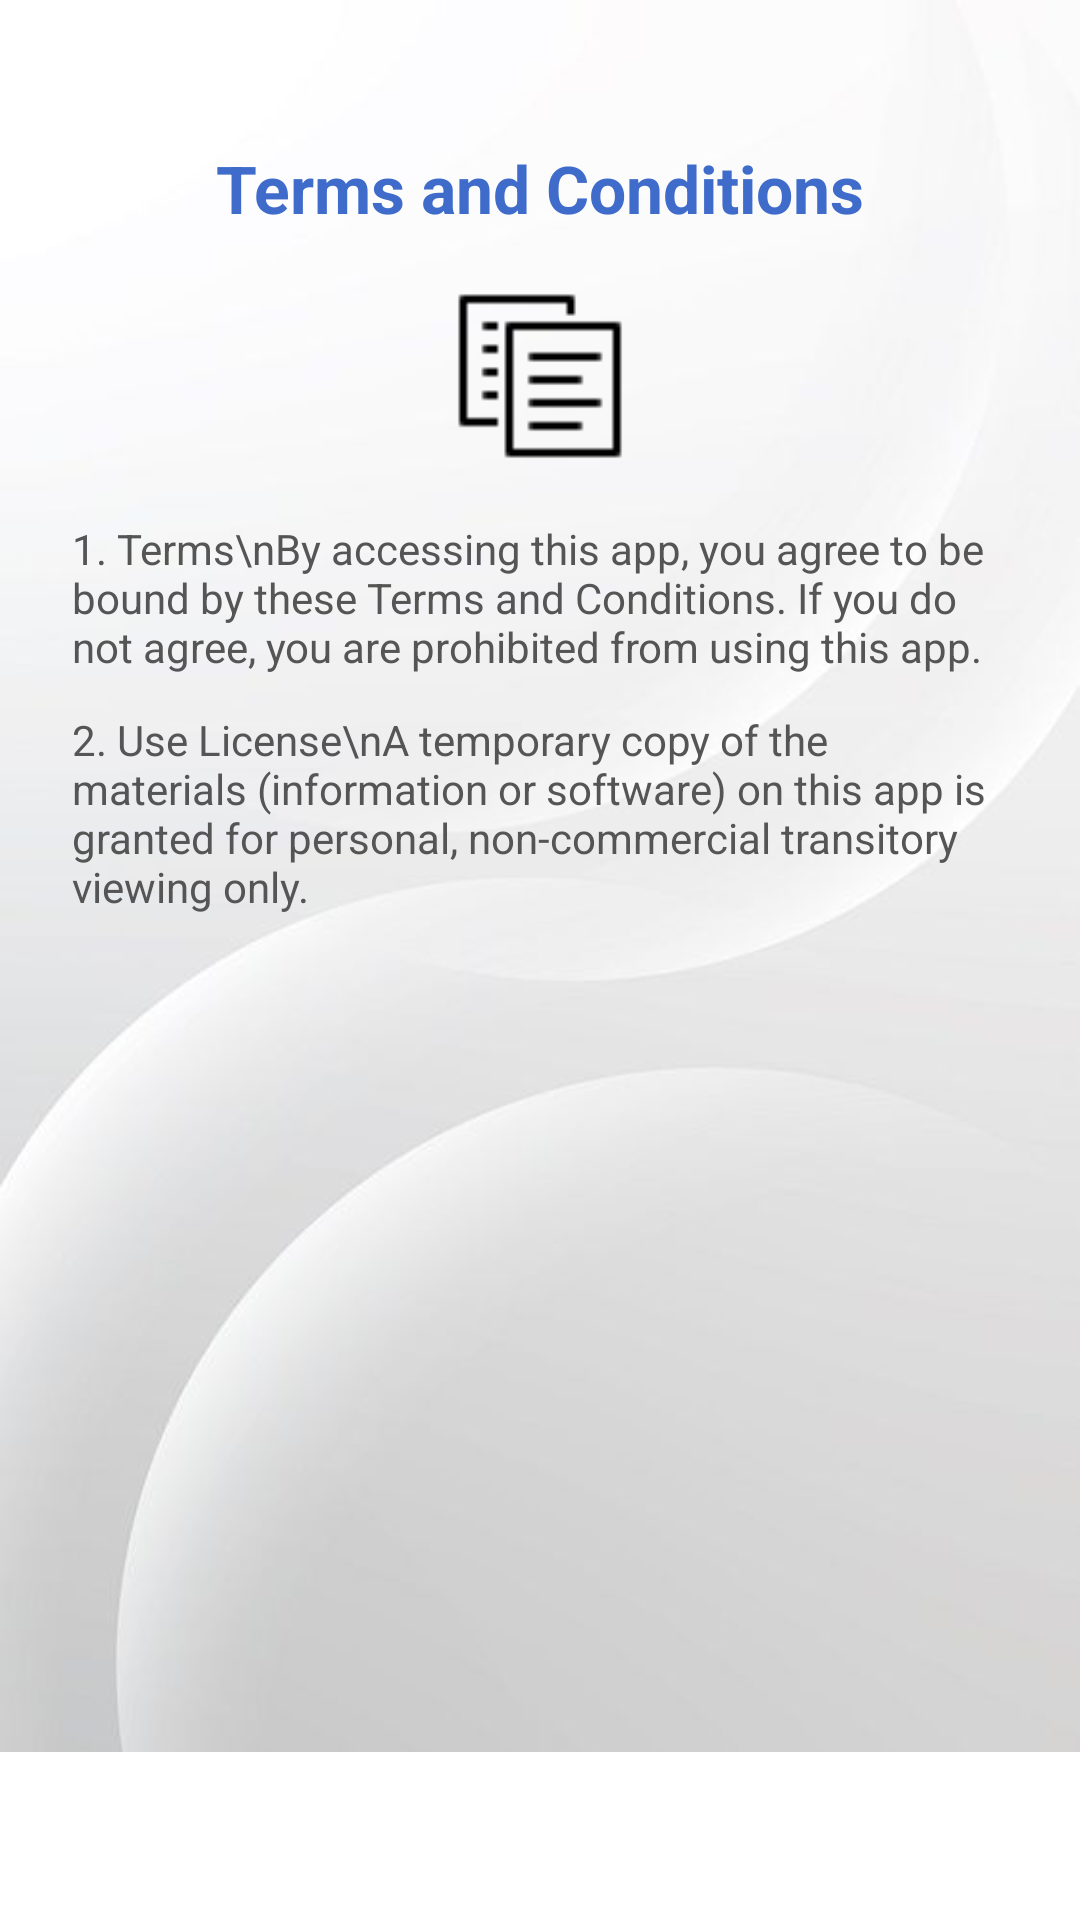

Point at icon controls on the screen. Image size 1080×1920, points as (x=x, y=y).
terms condition: (x=540, y=376)
